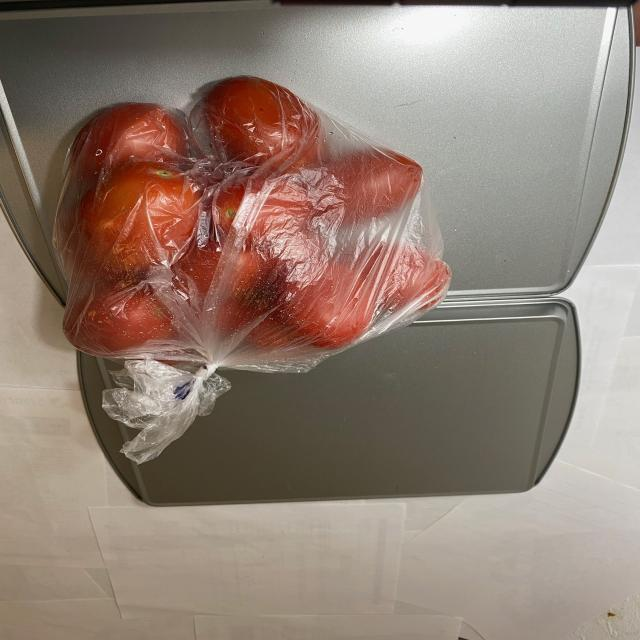tomato: (47, 79, 442, 362)
